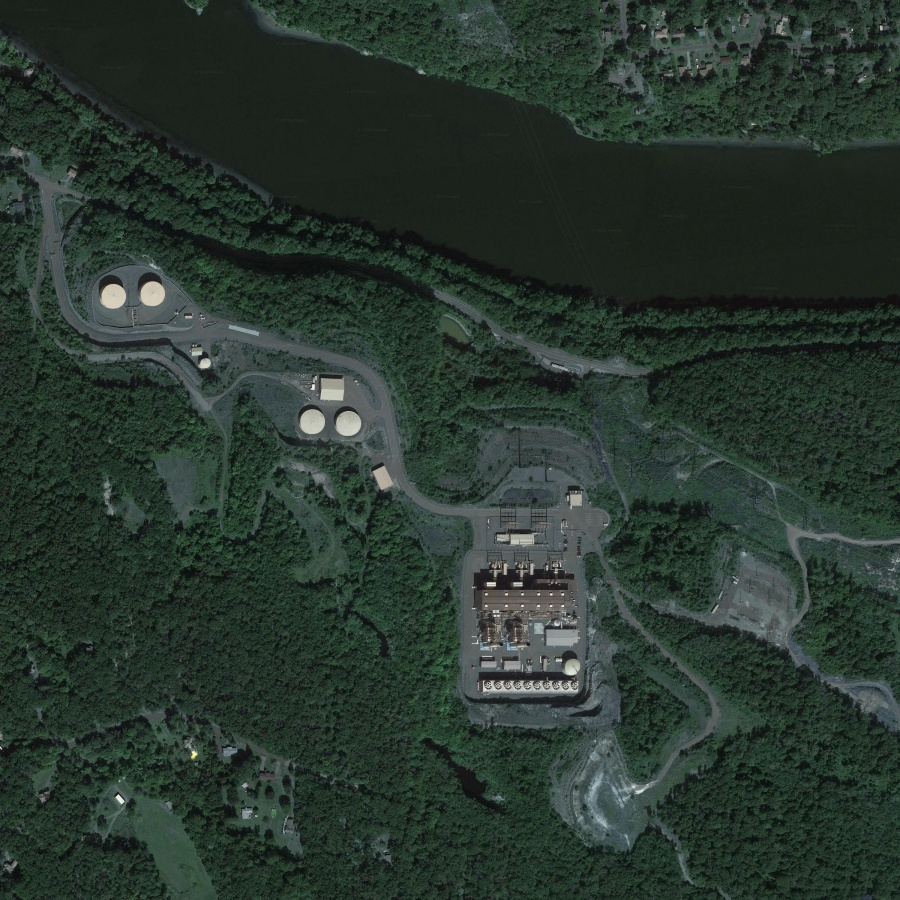PowerPlant: (465, 470, 611, 710)
